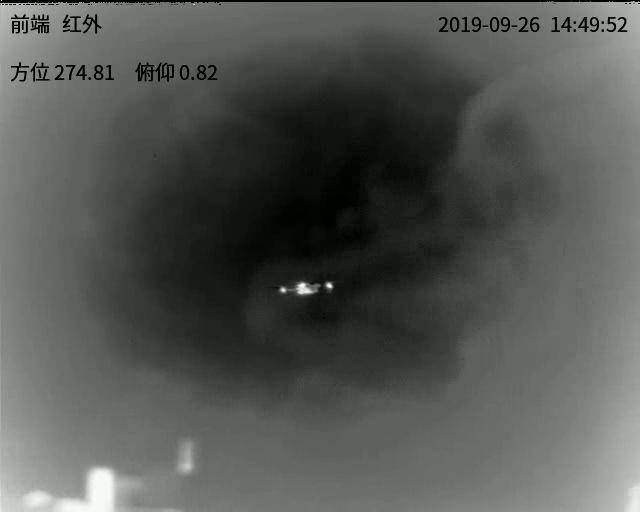DRONE: (277, 280, 335, 295)
